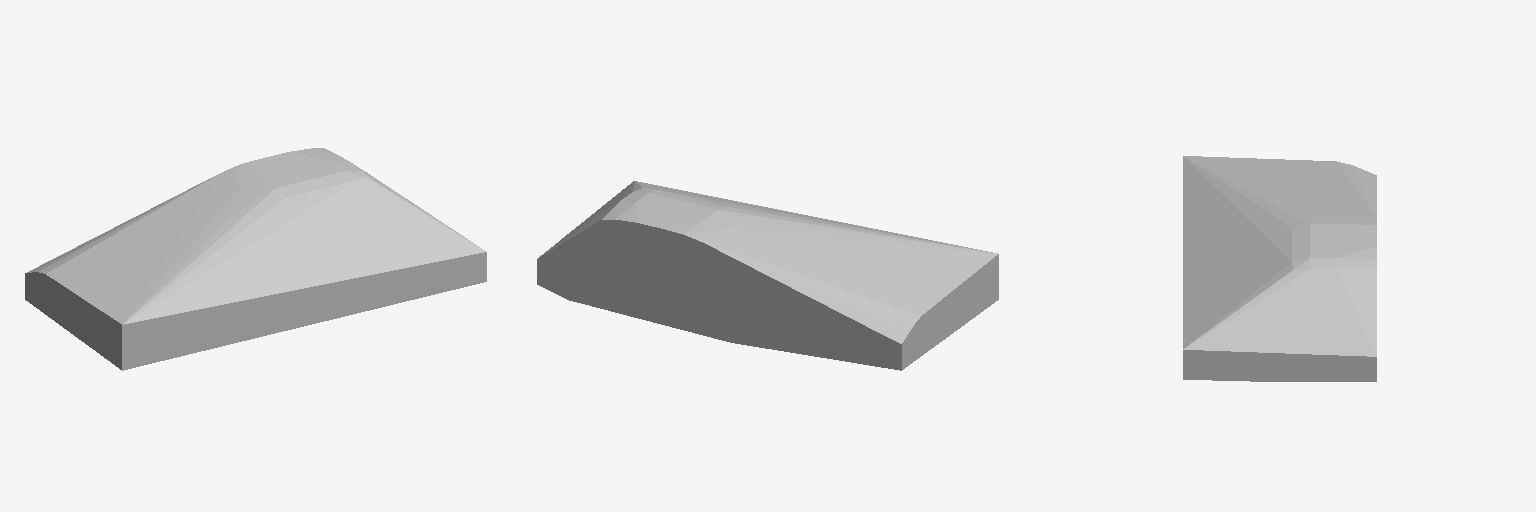
Rendered from ShipScene_collision_22.obj.
The picture shows the model from 3 angles: view 1: azimuth 30°, elevation 25°; view 2: azimuth 150°, elevation 25°; view 3: azimuth 270°, elevation 25°; orthographic projection.
Size of the model in its own units: 79.72 by 20.37 by 36.82.